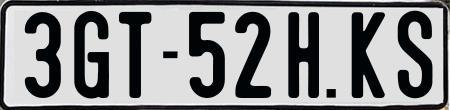2: (235, 10, 274, 99)
3: (22, 10, 64, 96)
5: (189, 9, 225, 99)
G: (74, 8, 114, 98)
H: (288, 12, 323, 101)
K: (350, 9, 385, 100)
S: (397, 9, 434, 102)
T: (116, 12, 154, 103)
